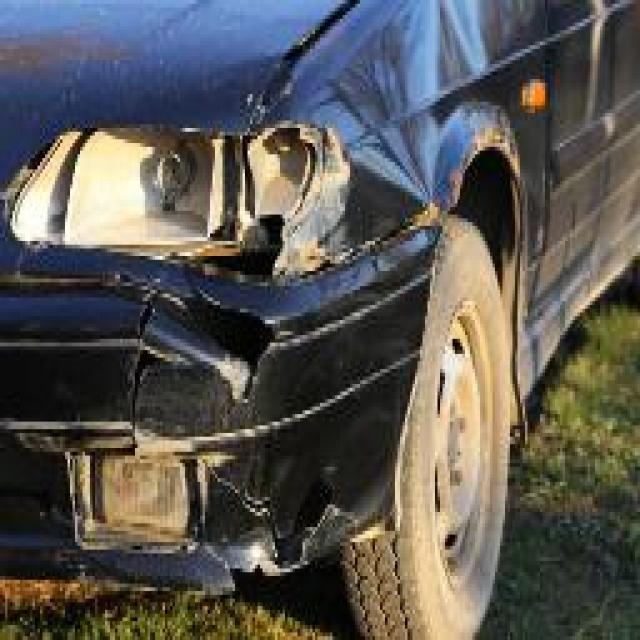Bumper: (88, 275, 400, 580)
Fender: (302, 0, 522, 181)
Light: (25, 120, 308, 256)
